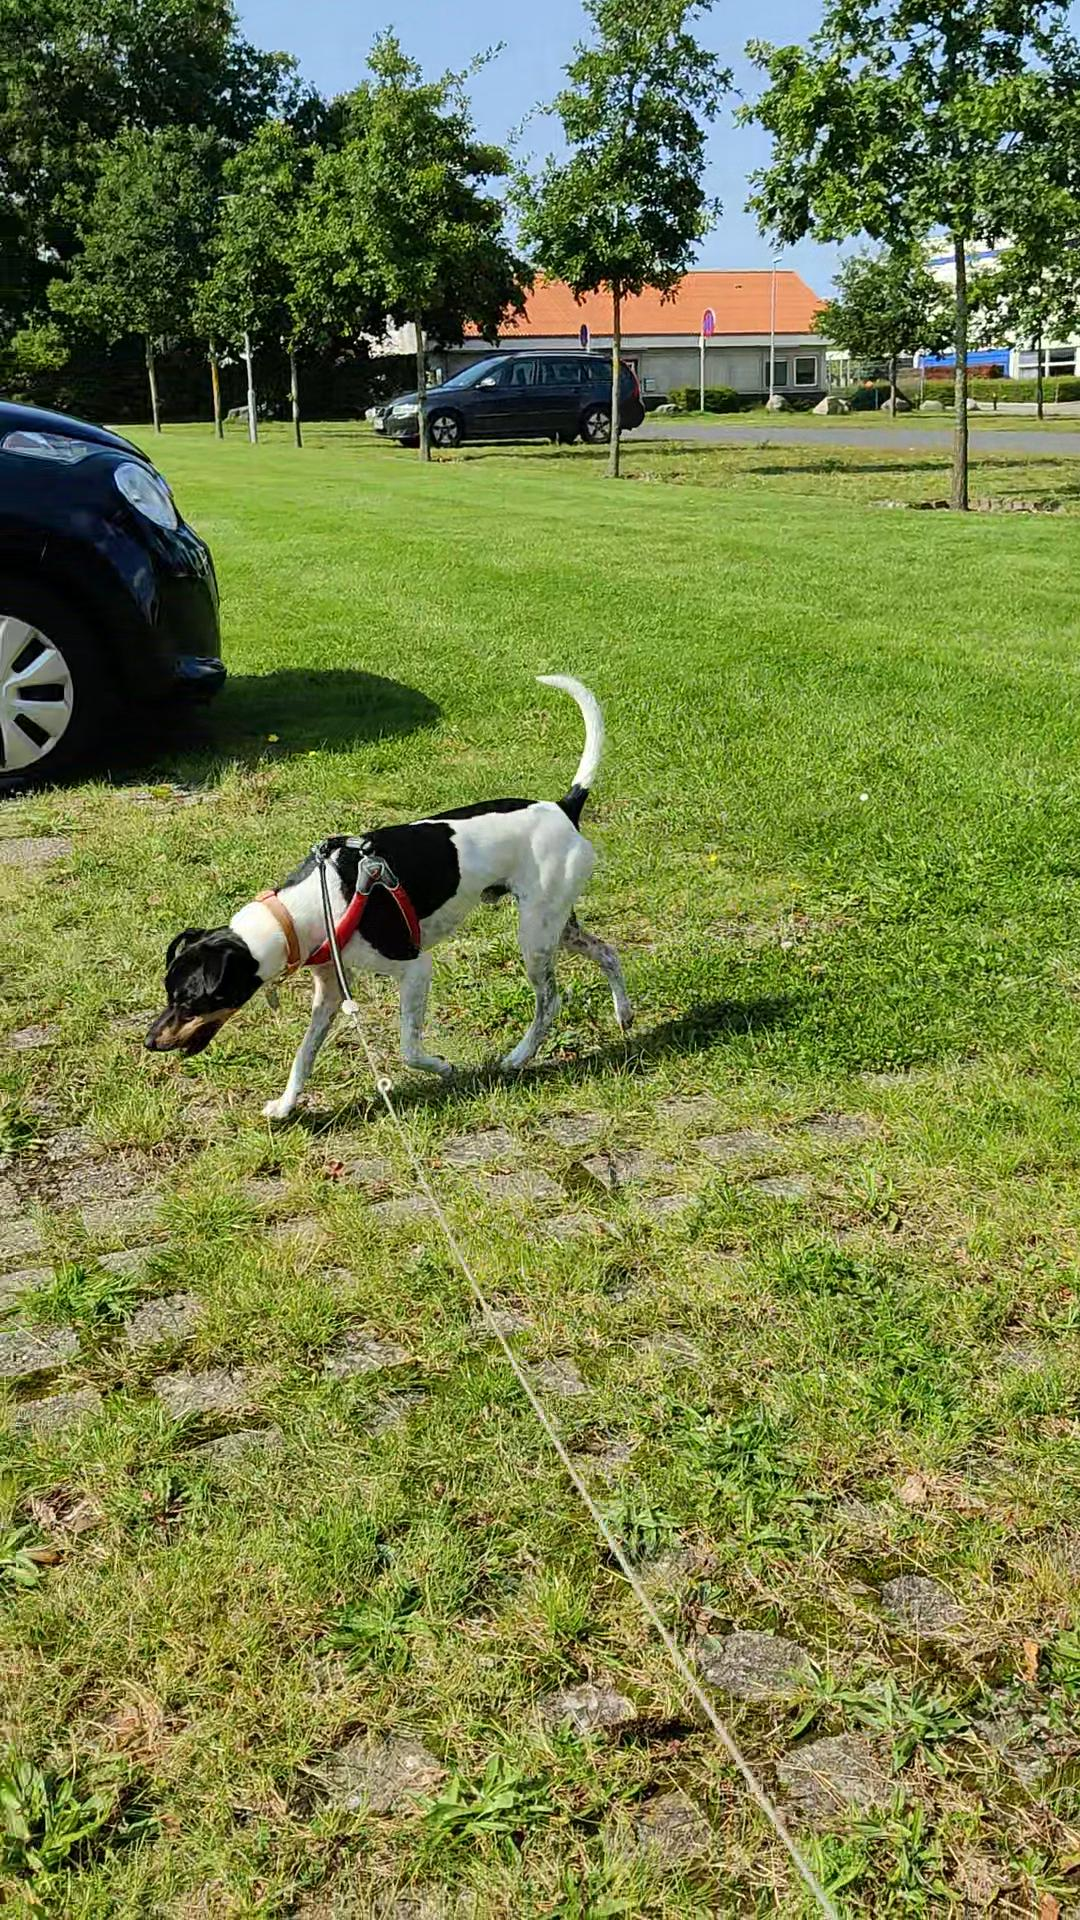Dog: (131, 647, 644, 1135)
